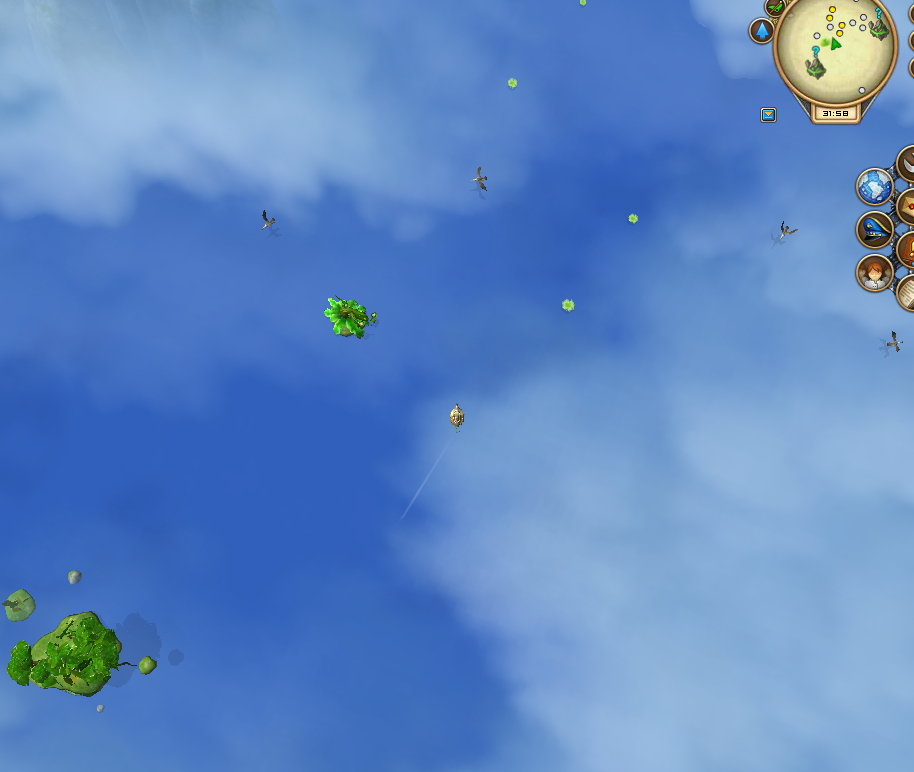dandelion-empty: (317, 291, 380, 341)
fluff: (558, 294, 580, 315), (504, 75, 519, 90), (626, 209, 640, 225), (574, 0, 588, 7)
